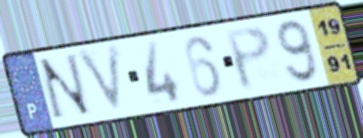4: (142, 38, 186, 106)
6: (183, 33, 224, 101)
9: (275, 17, 320, 85)
N: (35, 51, 96, 125)
P: (222, 23, 274, 93)
V: (73, 41, 127, 118)
